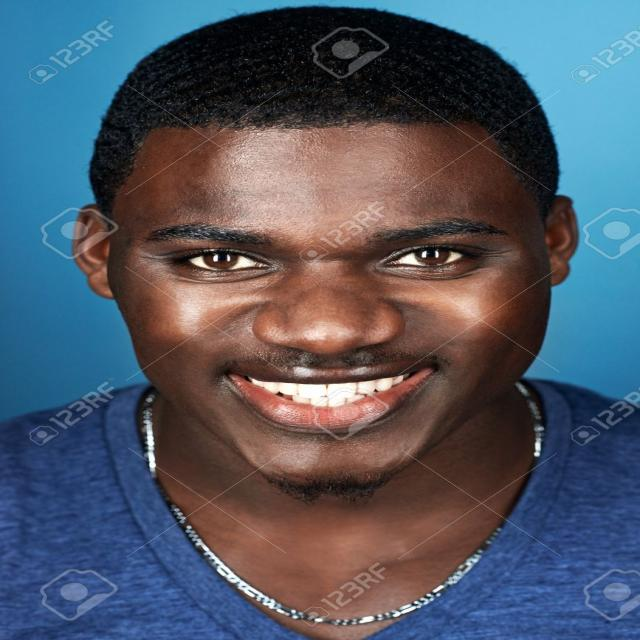sem_oculos: (65, 205, 594, 296)
